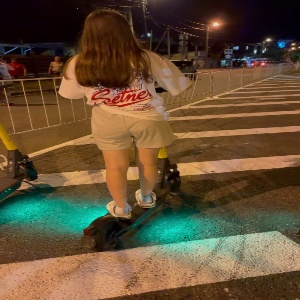human on a scooter: (51, 5, 193, 257)
